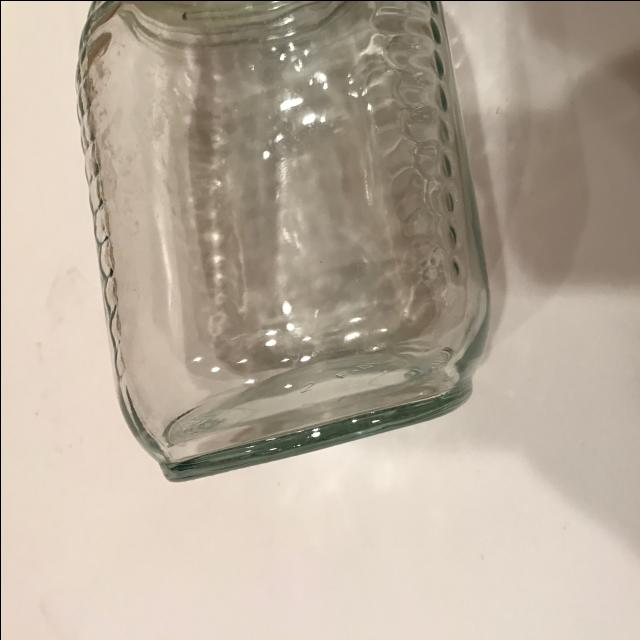glass: (72, 0, 491, 484)
